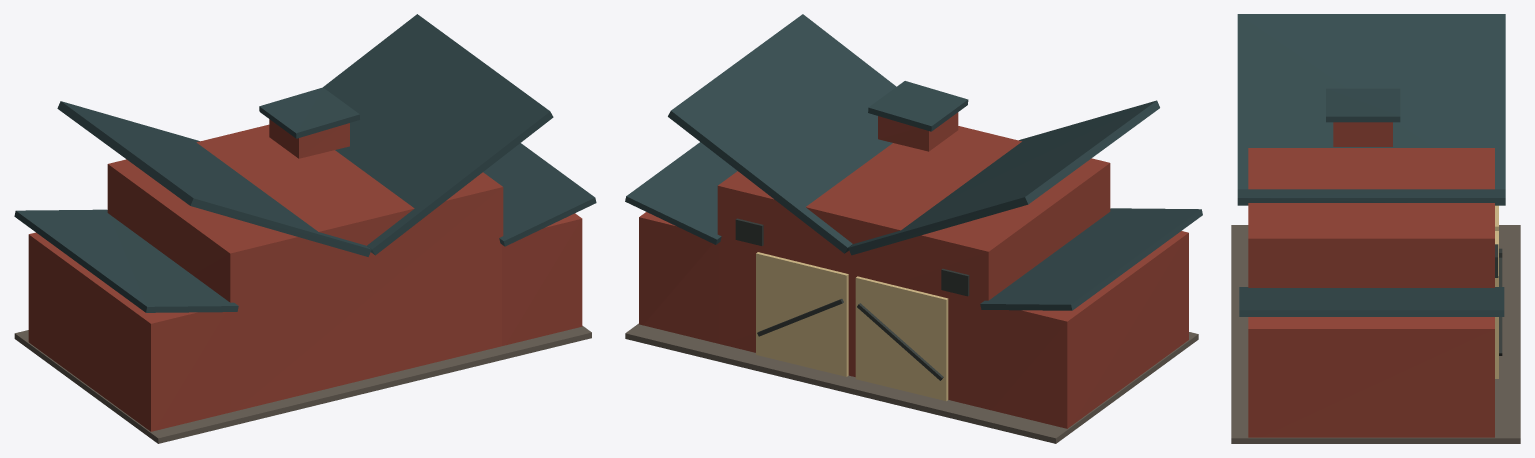
File: grand-barn.source.glb
3 views of the same model, side by side, from view 1: azimuth 30°, elevation 25°; view 2: azimuth 150°, elevation 25°; view 3: azimuth 270°, elevation 25° (orthographic).
Parts seen in each view (by area): view 1: grand-barn-main-hall-mesh, grand-barn-east-roof-mesh, grand-barn-west-aisle-mesh, grand-barn-west-roof-mesh, grand-barn-west-lean-roof-mesh, grand-barn-east-aisle-mesh, grand-barn-foundation-pad-mesh, grand-barn-east-lean-roof-mesh, grand-barn-cupola-cap-mesh, grand-barn-cupola-body-mesh; view 2: grand-barn-main-hall-mesh, grand-barn-east-roof-mesh, grand-barn-west-aisle-mesh, grand-barn-west-roof-mesh, grand-barn-west-lean-roof-mesh, grand-barn-door-2.06-mesh, grand-barn-door--2.06-mesh, grand-barn-foundation-pad-mesh, grand-barn-east-aisle-mesh, grand-barn-east-lean-roof-mesh, grand-barn-cupola-cap-mesh, grand-barn-cupola-body-mesh (+3 smaller); view 3: grand-barn-west-roof-mesh, grand-barn-main-hall-mesh, grand-barn-east-aisle-mesh, grand-barn-foundation-pad-mesh, grand-barn-east-lean-roof-mesh, grand-barn-east-roof-mesh, grand-barn-cupola-cap-mesh, grand-barn-cupola-body-mesh, grand-barn-door-2.06-mesh.
Part boxes in pixels (x1,y1,x2,y2): grand-barn-main-hall-mesh: (107,124,503,412); grand-barn-east-roof-mesh: (323,14,553,255); grand-barn-west-aisle-mesh: (28,232,230,431); grand-barn-west-roof-mesh: (57,101,371,256); grand-barn-west-lean-roof-mesh: (14,209,238,312); grand-barn-east-aisle-mesh: (502,213,582,345); grand-barn-foundation-pad-mesh: (14,325,591,443); grand-barn-east-lean-roof-mesh: (483,143,596,246); grand-barn-cupola-cap-mesh: (259,87,359,138); grand-barn-cupola-body-mesh: (269,119,349,158); grand-barn-main-hall-mesh: (717,126,1110,409); grand-barn-east-roof-mesh: (668,14,896,253); grand-barn-west-aisle-mesh: (988,231,1188,428); grand-barn-west-roof-mesh: (848,100,1159,255); grand-barn-west-lean-roof-mesh: (980,208,1202,310); grand-barn-door-2.06-mesh: (756,252,848,376); grand-barn-door--2.06-mesh: (855,276,948,401); grand-barn-foundation-pad-mesh: (625,323,1198,443); grand-barn-east-aisle-mesh: (639,212,718,343); grand-barn-east-lean-roof-mesh: (625,142,737,244); grand-barn-cupola-cap-mesh: (868,81,968,131); grand-barn-cupola-body-mesh: (878,112,958,151); grand-barn-west-roof-mesh: (1237,14,1505,189); grand-barn-main-hall-mesh: (1248,148,1494,287); grand-barn-east-aisle-mesh: (1248,317,1494,437); grand-barn-foundation-pad-mesh: (1231,225,1520,443); grand-barn-east-lean-roof-mesh: (1239,287,1504,316); grand-barn-east-roof-mesh: (1237,189,1505,205); grand-barn-cupola-cap-mesh: (1326,88,1400,122); grand-barn-cupola-body-mesh: (1333,122,1392,146); grand-barn-door-2.06-mesh: (1495,231,1498,378).
Size of the model in its own units: 18.49 by 9.2 by 10.2.
